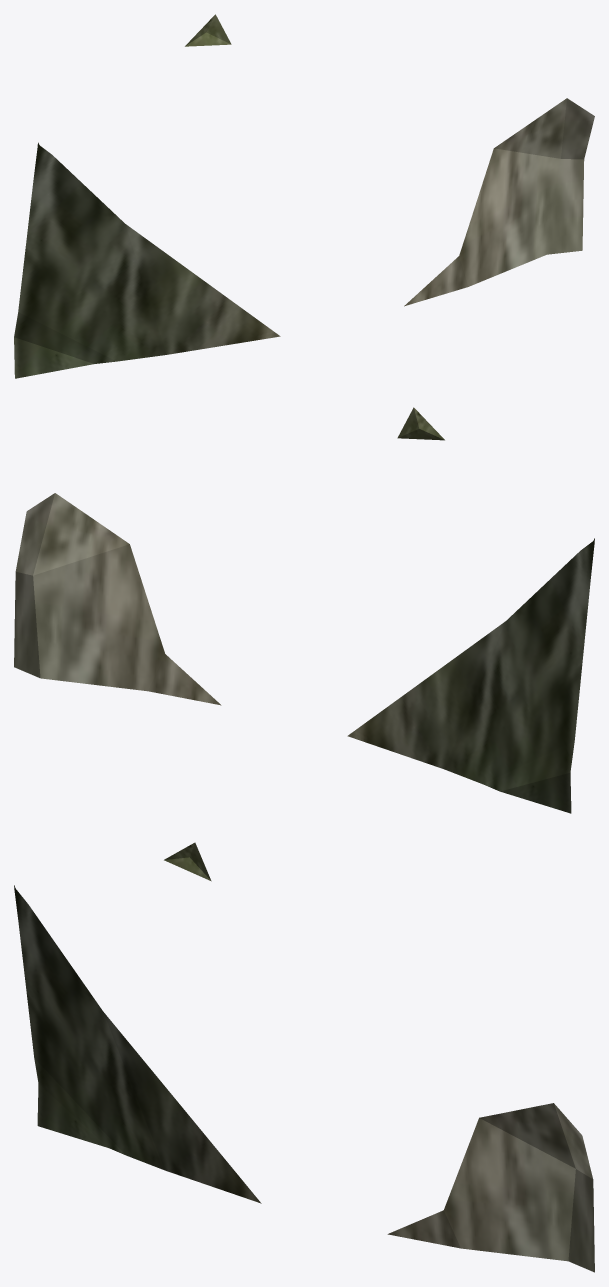
The picture shows the model from 3 angles, top to bottom: view 1: azimuth 30°, elevation 25°; view 2: azimuth 150°, elevation 25°; view 3: azimuth 330°, elevation 25°; orthographic projection. The views are drawn at different scales.
Bounding box in the file's own units: 2.95 × 1.71 × 0.2201.
1 material, 1 textured.
